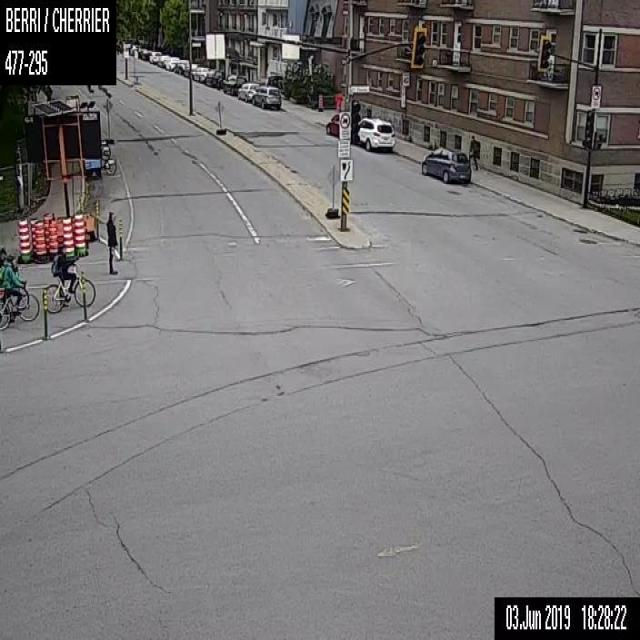construction: (326, 164, 339, 217), (101, 96, 113, 144), (17, 217, 30, 259), (73, 212, 85, 254), (62, 216, 73, 258), (34, 219, 45, 260), (213, 100, 225, 133), (43, 212, 54, 247), (48, 219, 57, 256), (81, 268, 86, 320), (42, 287, 46, 336), (56, 216, 62, 246), (118, 219, 122, 257), (334, 93, 342, 105), (318, 94, 322, 106)
cyclist: (42, 244, 96, 312), (0, 253, 39, 329)
pedestrian: (105, 211, 118, 274), (468, 134, 480, 169)
vehicle: (421, 144, 471, 182), (353, 118, 394, 148), (252, 85, 281, 108), (222, 73, 247, 94), (237, 82, 258, 101), (204, 69, 223, 88), (325, 113, 339, 137), (193, 66, 208, 80), (174, 59, 188, 73), (164, 56, 179, 69), (184, 63, 196, 77), (156, 54, 169, 66), (148, 50, 160, 63), (140, 49, 151, 58), (130, 44, 138, 53)
